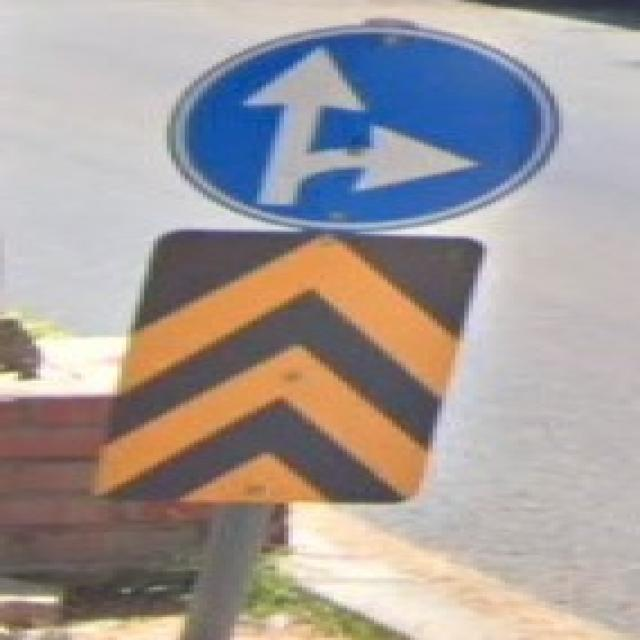Straight or Right: (179, 26, 567, 226)
